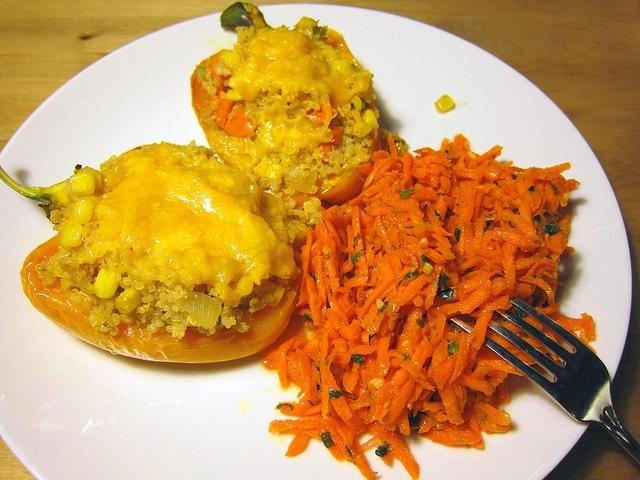bell pepper: (190, 2, 382, 206), (20, 232, 302, 364)
carrot: (344, 206, 368, 288), (391, 342, 429, 386), (448, 278, 492, 314), (436, 370, 464, 426), (382, 379, 415, 425), (432, 418, 481, 446), (293, 346, 317, 403), (449, 332, 474, 386), (389, 274, 428, 308), (432, 349, 458, 390), (499, 210, 536, 238), (516, 274, 554, 300), (474, 400, 512, 426), (304, 272, 322, 326), (352, 436, 374, 480), (454, 373, 494, 396), (421, 426, 468, 445), (426, 264, 444, 312), (458, 180, 476, 228), (472, 311, 494, 350), (314, 255, 326, 323), (322, 218, 343, 254), (533, 230, 564, 254), (546, 314, 583, 332), (412, 390, 435, 418), (514, 177, 534, 208), (532, 192, 548, 230), (376, 330, 391, 370), (348, 183, 374, 206), (515, 252, 544, 272), (418, 410, 442, 434), (383, 248, 402, 278), (450, 226, 466, 260), (372, 159, 394, 183), (542, 329, 558, 361), (410, 186, 438, 204), (322, 211, 352, 227), (458, 256, 483, 275), (321, 269, 333, 308), (472, 219, 488, 247), (397, 203, 425, 219), (282, 428, 322, 439), (412, 224, 437, 241), (330, 238, 340, 280), (444, 260, 460, 286), (455, 170, 483, 184), (397, 334, 414, 356), (520, 198, 533, 226), (490, 160, 516, 174), (491, 274, 507, 296), (470, 364, 491, 380), (384, 294, 417, 304), (524, 166, 536, 190), (481, 260, 504, 271), (338, 326, 356, 340), (326, 348, 338, 368), (340, 262, 356, 276), (390, 227, 400, 248), (352, 423, 367, 437), (515, 249, 532, 261), (350, 402, 370, 411), (416, 172, 431, 184), (385, 171, 404, 180), (482, 195, 494, 209), (431, 300, 454, 307), (428, 162, 444, 172), (422, 317, 429, 338), (388, 349, 404, 358), (385, 419, 397, 431), (381, 194, 401, 201), (397, 222, 418, 228), (356, 296, 366, 308), (408, 246, 418, 258), (298, 424, 318, 430), (418, 390, 430, 400), (366, 265, 372, 283), (371, 334, 381, 344), (348, 314, 358, 324), (467, 392, 472, 412), (486, 241, 494, 250), (366, 222, 372, 234), (542, 199, 548, 210), (463, 168, 478, 172), (509, 179, 516, 186), (368, 393, 372, 400), (392, 169, 399, 173)
corn: (262, 30, 315, 60), (115, 281, 144, 313), (212, 50, 242, 77), (94, 268, 120, 298), (72, 196, 95, 225), (70, 172, 96, 196), (102, 164, 126, 189), (296, 16, 320, 40), (248, 41, 270, 66), (61, 223, 83, 247), (181, 243, 204, 264), (268, 59, 294, 77), (260, 132, 282, 153), (55, 186, 73, 207), (363, 109, 380, 129), (435, 95, 455, 112), (303, 196, 321, 214), (236, 277, 253, 295), (352, 122, 372, 137), (286, 128, 304, 144), (264, 164, 282, 178), (213, 265, 226, 283), (293, 224, 307, 240), (226, 89, 244, 101), (352, 94, 362, 111), (352, 109, 364, 122), (258, 177, 270, 188), (228, 75, 237, 89), (96, 240, 104, 249), (188, 146, 194, 152)
onion: (173, 291, 222, 329), (284, 164, 318, 194)
